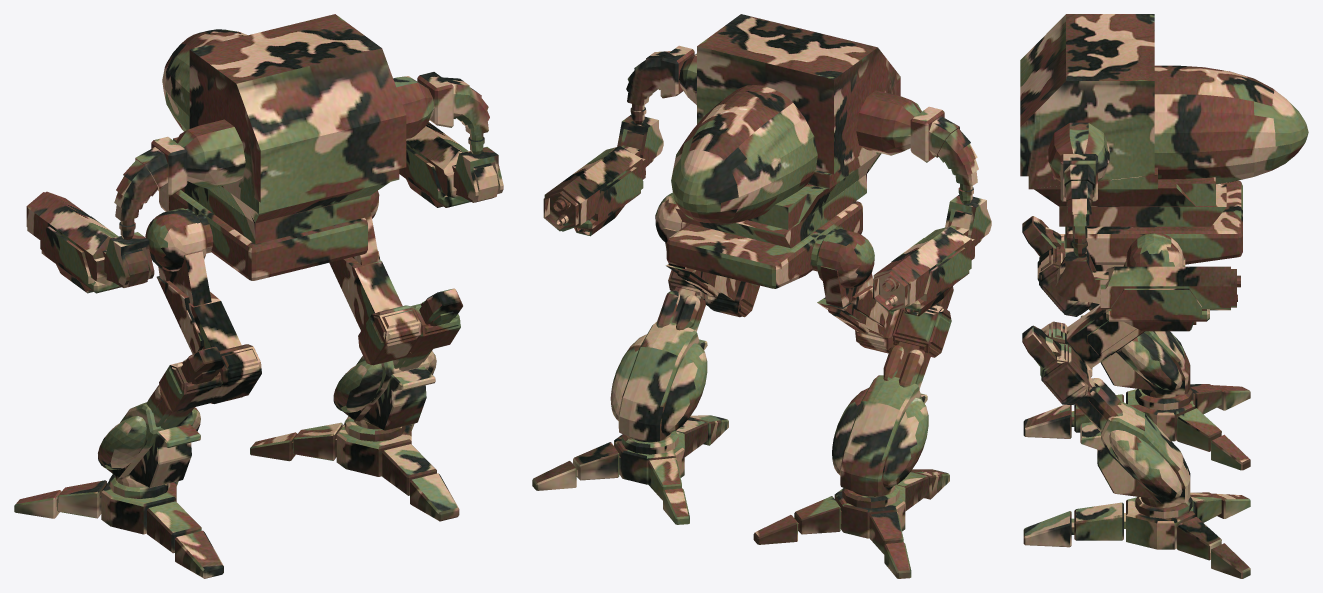
Rendered from madcad.dae.
3 views of the same model, side by side, from view 1: azimuth 30°, elevation 25°; view 2: azimuth 150°, elevation 25°; view 3: azimuth 270°, elevation 25° (orthographic). The views are drawn at different scales.
Parts seen in each view (by area): view 1: body, shim, thig, feet, feet01, shim01, arm, base, Cylinder01, thig01, arm01, Cylinder02 (+3 smaller); view 2: body, cockpit, shim, shim01, feet01, feet, base, arm, thig, Cylinder02, Cylinder01, arm01 (+3 smaller); view 3: body, cockpit, shim01, feet01, Cylinder02, feet, shim, base, arm01, thig01, gunJoint01, thig.
Boxes of the visible parts, bbox=[...] form: body: bbox=[173, 14, 406, 244]; shim: bbox=[98, 346, 224, 487]; thig: bbox=[145, 208, 261, 403]; feet: bbox=[14, 474, 223, 578]; feet01: bbox=[250, 398, 459, 521]; shim01: bbox=[333, 288, 462, 430]; arm: bbox=[114, 119, 245, 239]; base: bbox=[159, 190, 367, 280]; Cylinder01: bbox=[26, 191, 149, 293]; thig01: bbox=[329, 190, 421, 365]; arm01: bbox=[393, 72, 489, 154]; Cylinder02: bbox=[399, 122, 498, 207]; body: bbox=[675, 14, 900, 248]; cockpit: bbox=[671, 85, 817, 224]; shim: bbox=[832, 287, 953, 495]; shim01: bbox=[610, 270, 759, 441]; feet01: bbox=[532, 415, 728, 524]; feet: bbox=[753, 469, 949, 578]; base: bbox=[666, 201, 862, 288]; arm: bbox=[856, 90, 978, 203]; thig: bbox=[811, 229, 900, 353]; Cylinder02: bbox=[543, 130, 654, 236]; Cylinder01: bbox=[873, 210, 982, 316]; arm01: bbox=[626, 45, 696, 123]; body: bbox=[1020, 14, 1226, 226]; cockpit: bbox=[1154, 65, 1308, 184]; shim01: bbox=[1022, 325, 1190, 503]; feet01: bbox=[1023, 492, 1250, 578]; Cylinder02: bbox=[1057, 263, 1240, 331]; feet: bbox=[1023, 384, 1250, 470]; shim: bbox=[1022, 216, 1190, 394]; base: bbox=[1065, 180, 1242, 264]; arm01: bbox=[1048, 122, 1109, 256]; thig01: bbox=[1041, 232, 1185, 377]; gunJoint01: bbox=[1055, 248, 1096, 296]; thig: bbox=[1037, 248, 1123, 316].
Size of the model in its own units: 4.04 by 2.66 by 4.47.
1 material, 1 textured.
